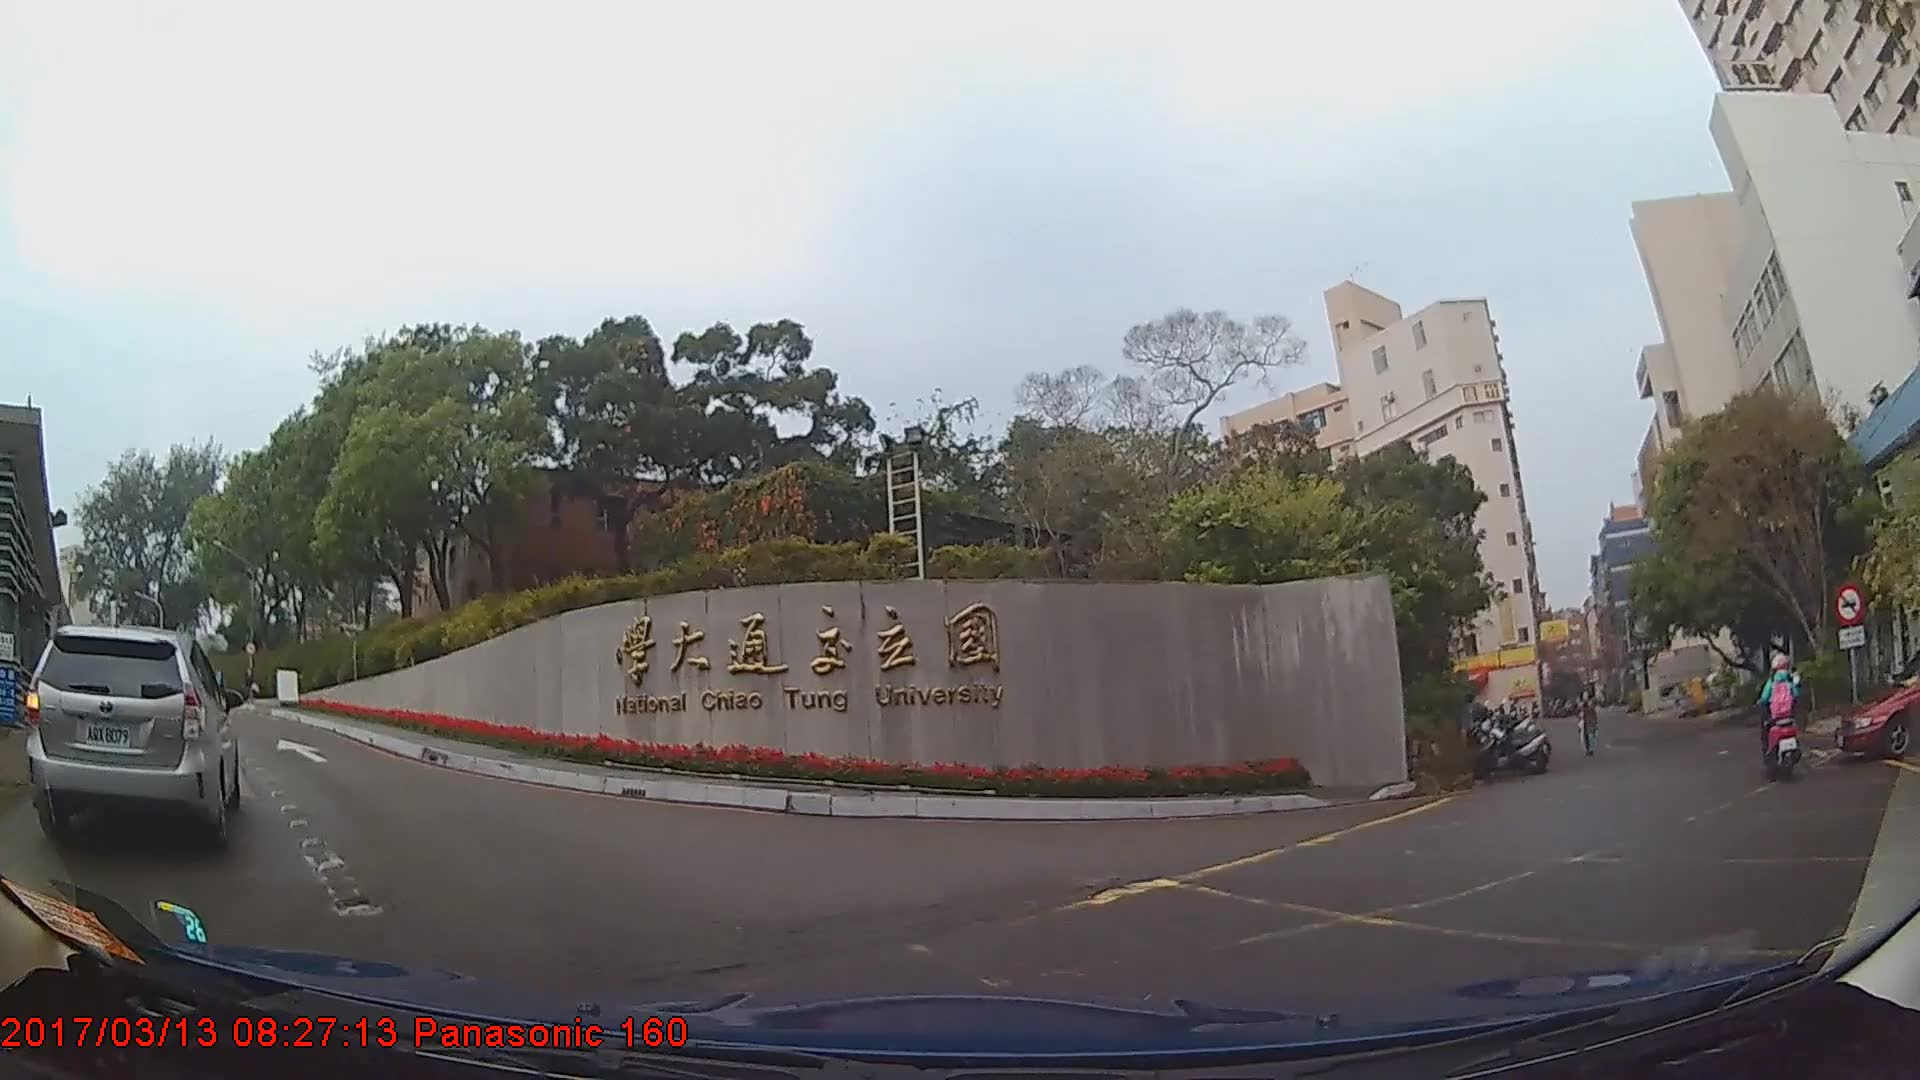pedestrian: (1578, 695, 1601, 758)
rider: (1761, 655, 1807, 788)
vehicle: (23, 625, 237, 852), (1836, 654, 1920, 762)
